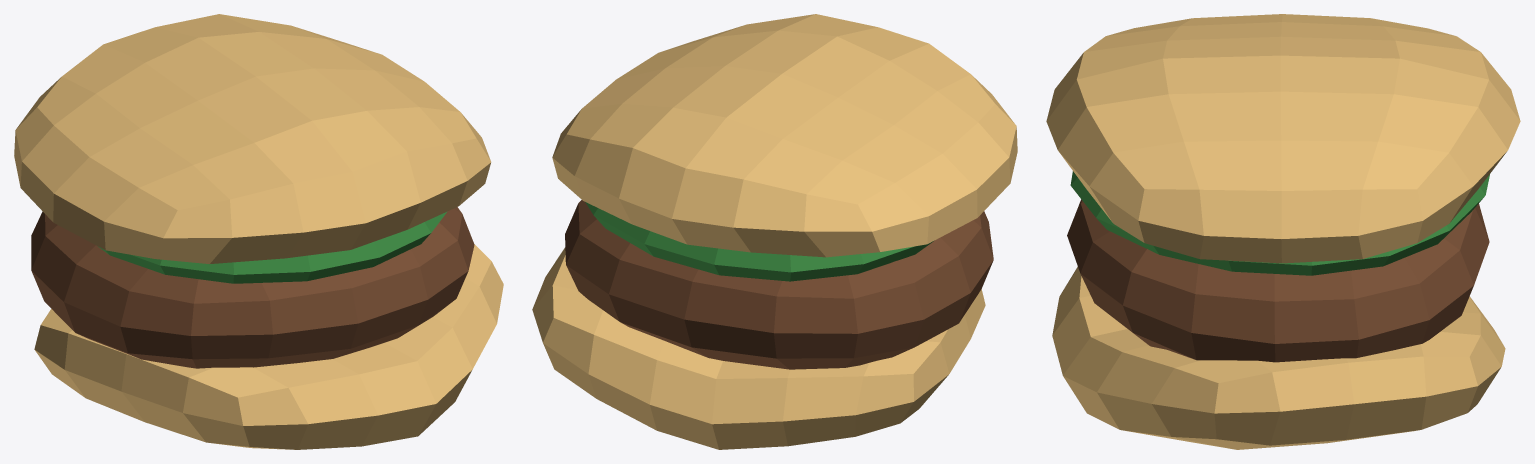
Rendered from borgerV0.1.fbx.
3 renders of one model, left to right at view 1: azimuth 30°, elevation 25°; view 2: azimuth 150°, elevation 25°; view 3: azimuth 270°, elevation 25°, orthographic. The views are drawn at different scales.
Visible parts, largest first — view 1: Cube.001; view 2: Cube.001; view 3: Cube.001.
Part boxes in pixels (<box>): Cube.001: <box>14,14,503,449</box>; Cube.001: <box>532,14,1017,449</box>; Cube.001: <box>1046,14,1520,449</box>.
Size of the model in its own units: 231 by 174 by 214.
